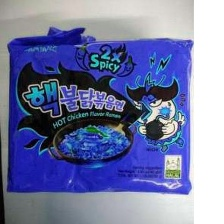snack: (0, 20, 197, 201)
